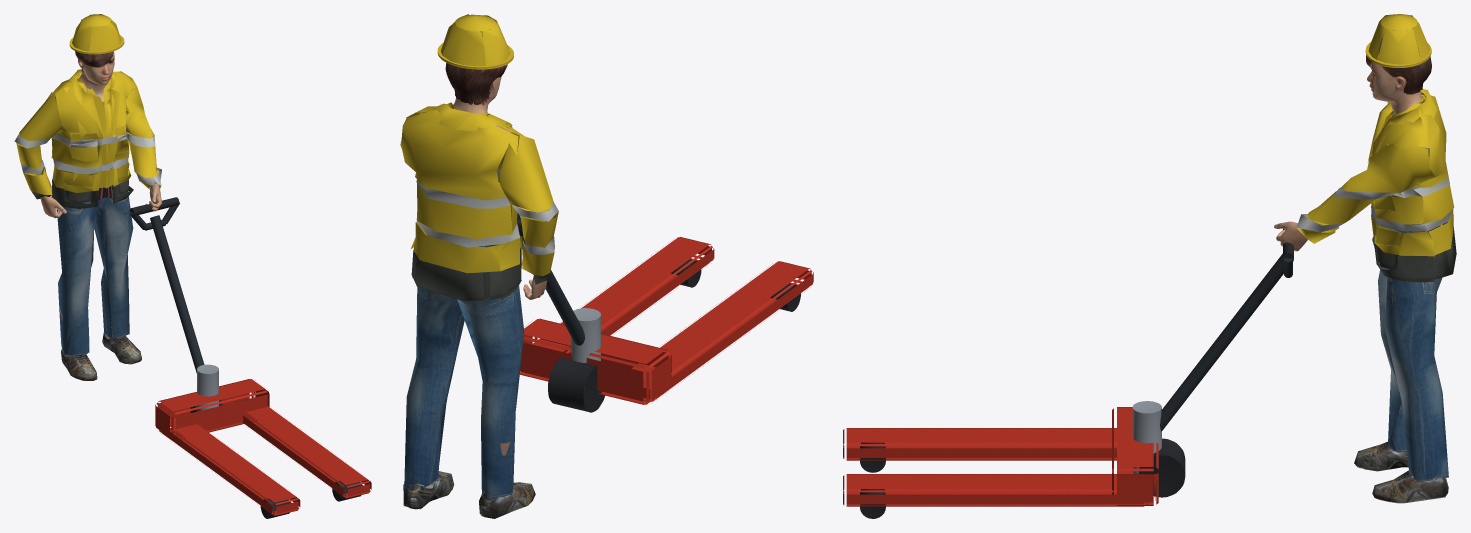
The model's file is trabajador-transpaleta.glb.
The picture shows the model from 3 angles, left to right: view 1: azimuth 30°, elevation 25°; view 2: azimuth 150°, elevation 25°; view 3: azimuth 270°, elevation 25°; orthographic projection. The views are drawn at different scales.
Parts seen in each view (by area): view 1: male_casualsuit05, Pallet jack | original load fork, Pallet jack | original load fork.001, Pallet jack | fork crosshead, Pallet jack | fitted tiller, Finley | anatomical body, Worker | original hardhat shell, shoes02, Pallet jack | lifting cylinder, short03; view 2: male_casualsuit05, Pallet jack | original load fork, Pallet jack | fork crosshead, Pallet jack | original load fork.001, Worker | original hardhat shell, Pallet jack | steering wheel, shoes02, short03, Pallet jack | lifting cylinder, Pallet jack | fitted tiller, Finley | anatomical body; view 3: male_casualsuit05, Pallet jack | original load fork.001, Pallet jack | original load fork, Pallet jack | fork crosshead, shoes02, Pallet jack | fitted tiller, Worker | original hardhat shell, Finley | anatomical body, Pallet jack | steering wheel, Pallet jack | lifting cylinder, short03.
Part boxes in pixels (x1,y1,x2,y2): male_casualsuit05: [14, 69, 161, 355]; Pallet jack | original load fork: [159, 415, 300, 515]; Pallet jack | original load fork.001: [234, 397, 371, 498]; Pallet jack | fork crosshead: [155, 379, 269, 439]; Pallet jack | fitted tiller: [150, 215, 204, 373]; Finley | anatomical body: [40, 51, 162, 320]; Worker | original hardhat shell: [72, 14, 121, 51]; shoes02: [61, 326, 141, 380]; Pallet jack | lifting cylinder: [197, 364, 218, 410]; short03: [75, 51, 113, 74]; male_casualsuit05: [400, 102, 558, 499]; Pallet jack | original load fork: [631, 261, 813, 401]; Pallet jack | fork crosshead: [520, 318, 671, 404]; Pallet jack | original load fork.001: [532, 237, 714, 353]; Worker | original hardhat shell: [441, 14, 510, 66]; Pallet jack | steering wheel: [548, 357, 604, 412]; shoes02: [403, 471, 535, 518]; short03: [445, 63, 507, 105]; Pallet jack | lifting cylinder: [570, 308, 600, 388]; Pallet jack | fitted tiller: [517, 213, 584, 345]; Finley | anatomical body: [419, 76, 547, 455]; male_casualsuit05: [1296, 89, 1456, 482]; Pallet jack | original load fork.001: [843, 474, 1147, 506]; Pallet jack | original load fork: [843, 428, 1116, 460]; Pallet jack | fork crosshead: [1112, 407, 1158, 505]; shoes02: [1354, 441, 1448, 503]; Pallet jack | fitted tiller: [1160, 253, 1293, 431]; Worker | original hardhat shell: [1368, 14, 1429, 64]; Finley | anatomical body: [1274, 62, 1428, 407]; Pallet jack | steering wheel: [1138, 438, 1185, 497]; Pallet jack | lifting cylinder: [1132, 401, 1161, 473]; short03: [1366, 38, 1431, 94].
Size of the model in its own units: 0.7669 by 1.92 by 2.31.
14 materials, 14 textured.
